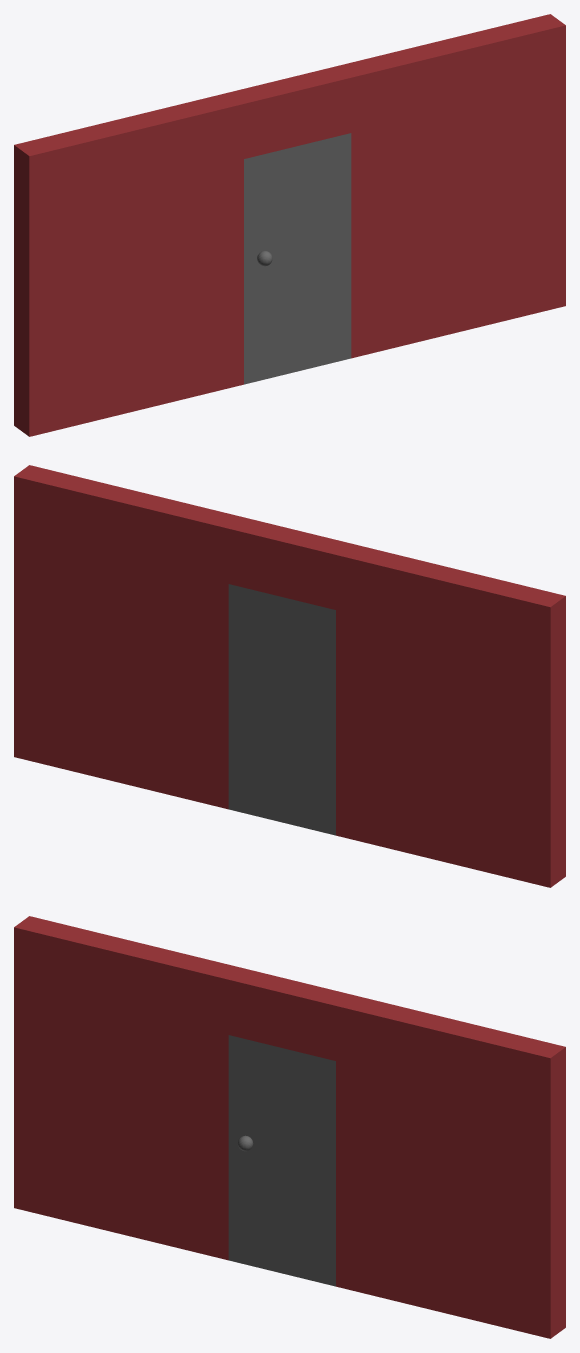
Rendered from testWallDoor.glb.
3 views of the same model, one above another, from view 1: azimuth 30°, elevation 25°; view 2: azimuth 150°, elevation 25°; view 3: azimuth 330°, elevation 25° (orthographic).
Parts seen in each view (by area): view 1: wall, door; view 2: wall, door; view 3: wall, door.
Boxes of the visible parts, bbox=[...] form: wall: bbox=[14, 14, 565, 436]; door: bbox=[244, 133, 351, 384]; wall: bbox=[14, 465, 565, 887]; door: bbox=[228, 584, 335, 835]; wall: bbox=[14, 916, 565, 1338]; door: bbox=[228, 1035, 335, 1286].
Size of the model in its own units: 4 by 2 by 0.2749.
